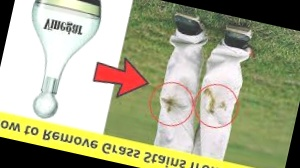earth: (201, 89, 227, 115), (161, 95, 181, 117)
